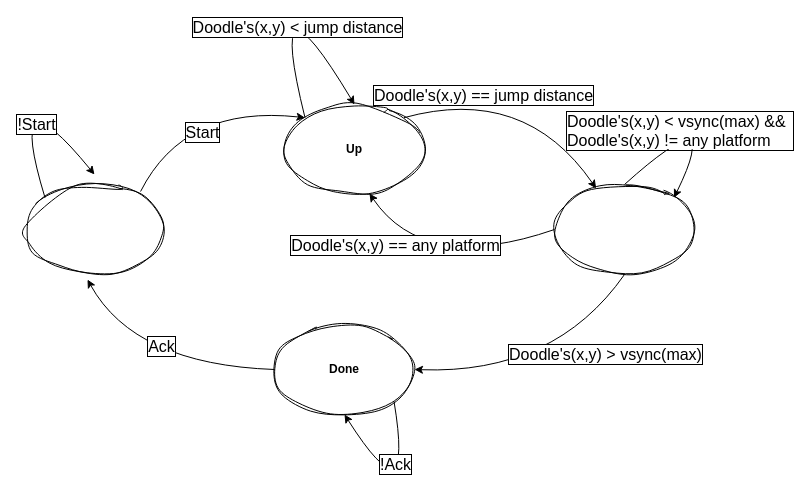
This 812x493 diagram has some shape labels left out. Here are the shapes that lost their labels. From the top down, the centre of each, then its label:
At point (94, 229): "INI".
At point (624, 229): "Down".
